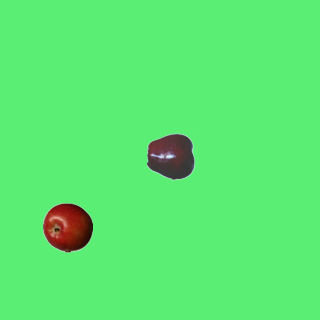Apple Braeburn: (42, 202, 92, 252)
Apple Red Delicious: (146, 131, 196, 181)
